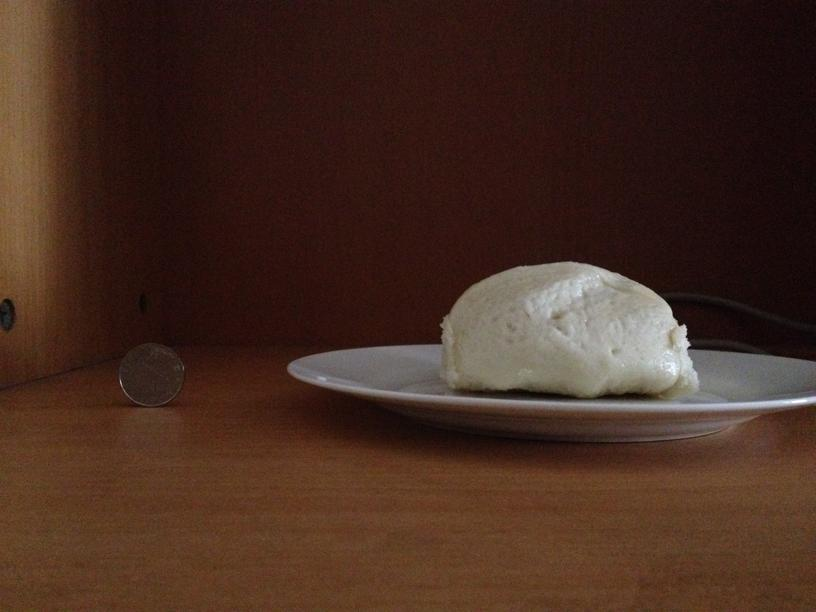bun: (436, 262, 691, 393)
coin: (117, 340, 185, 406)
